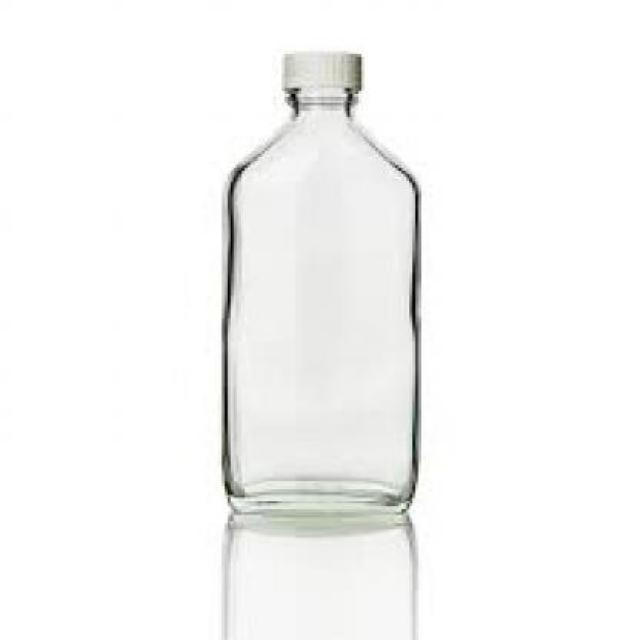kaca: (225, 85, 412, 512)
